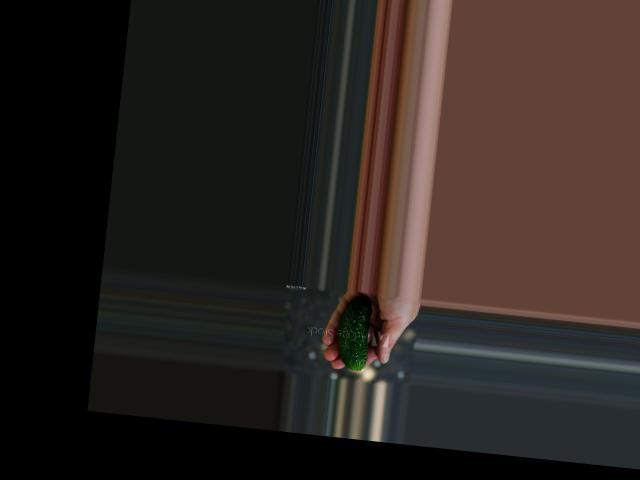cucumber: (333, 294, 372, 370)
